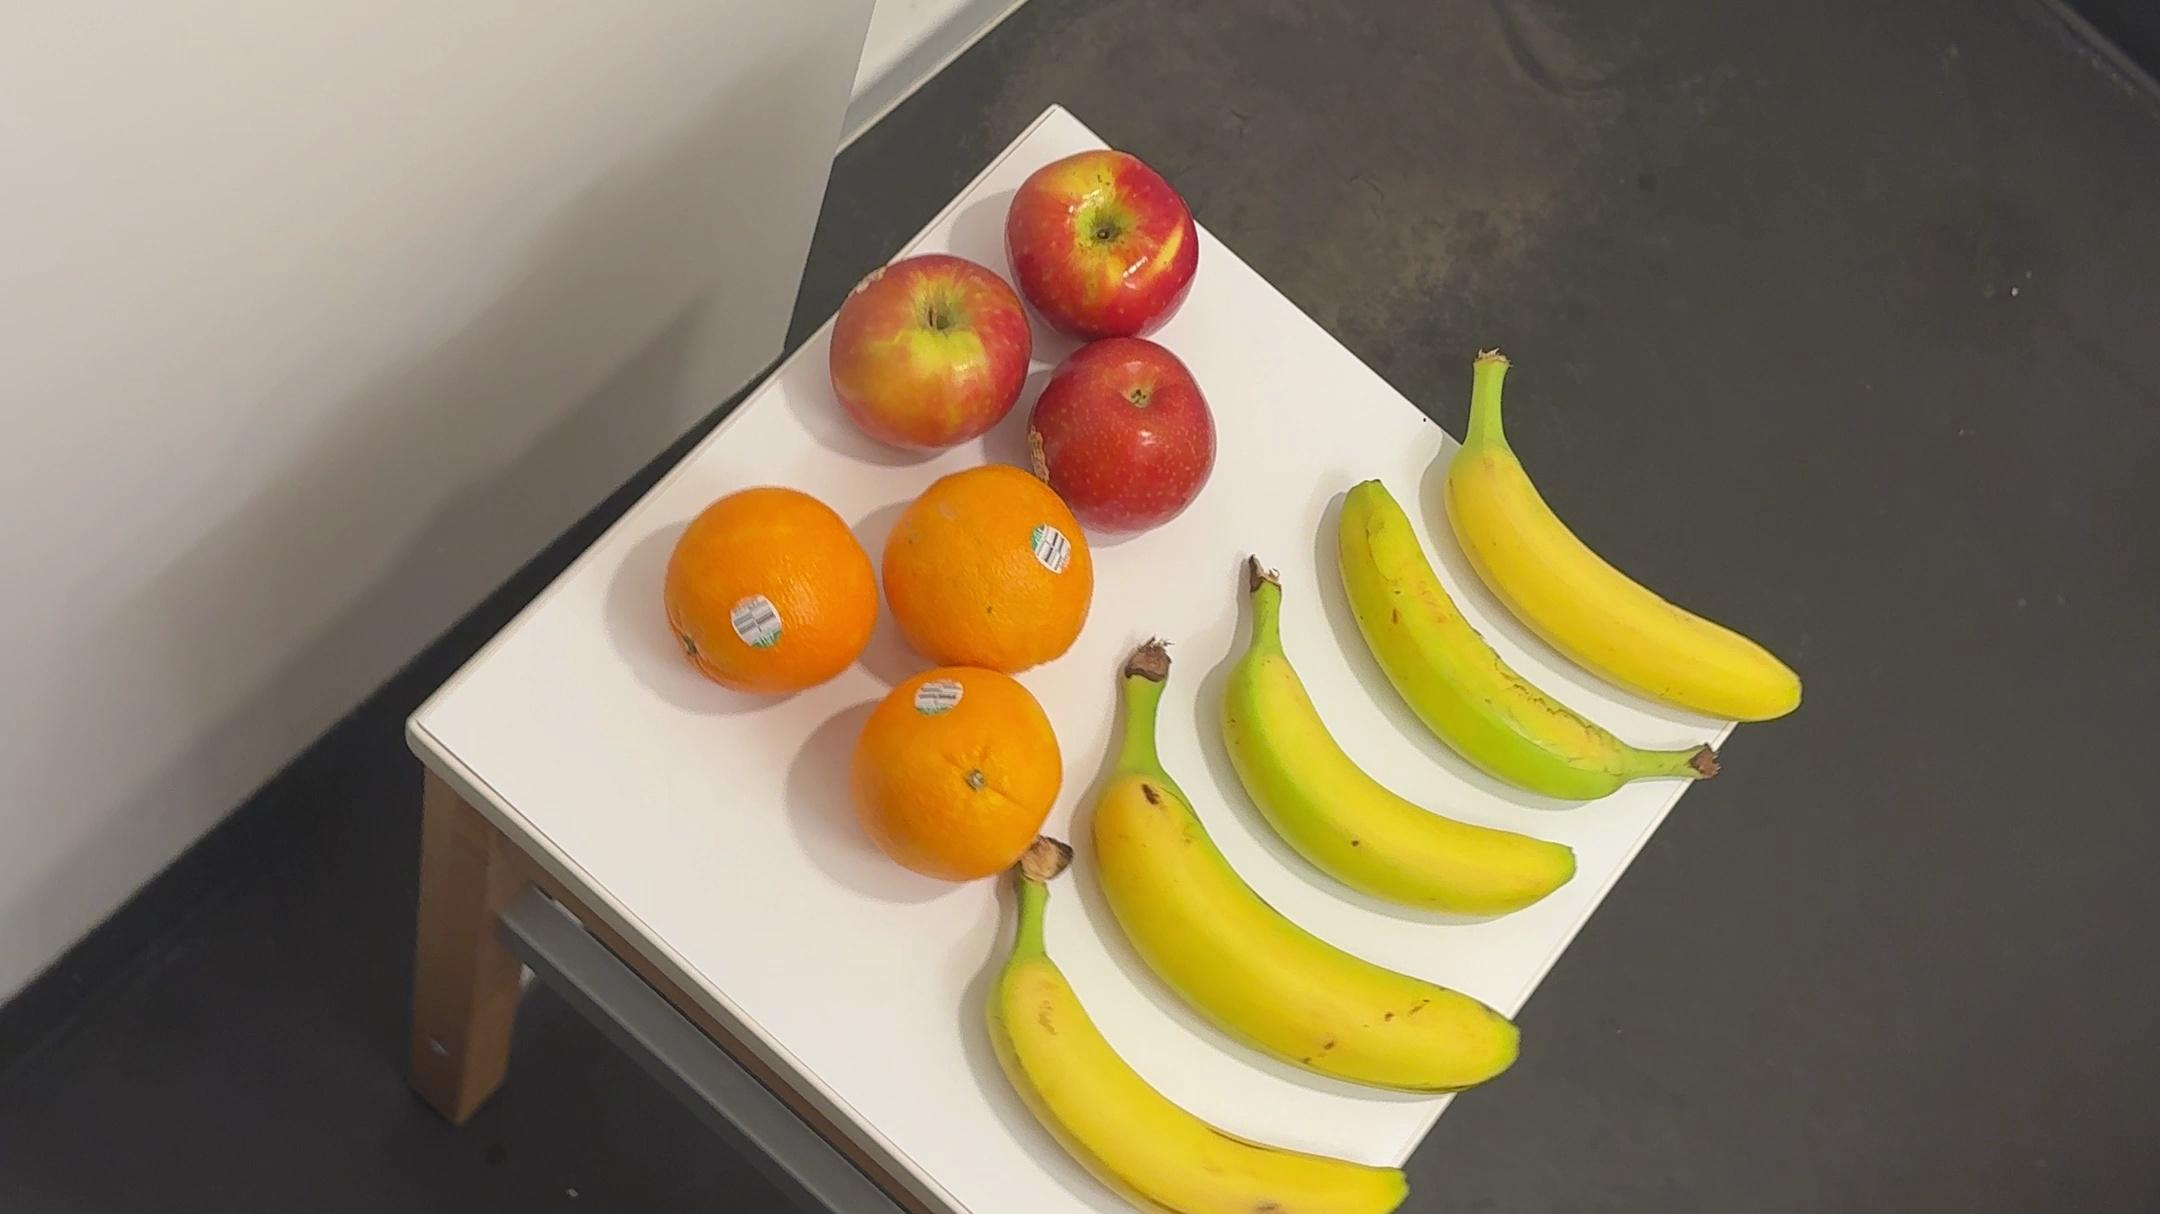apple: (1018, 337, 1221, 545), (998, 148, 1218, 338), (837, 245, 1016, 467)
banana: (1056, 634, 1535, 1115), (957, 839, 1420, 1214), (1409, 335, 1808, 732), (1170, 562, 1590, 920), (1303, 479, 1731, 809)
orange: (835, 652, 1061, 887), (663, 475, 872, 720), (881, 467, 1099, 683)
